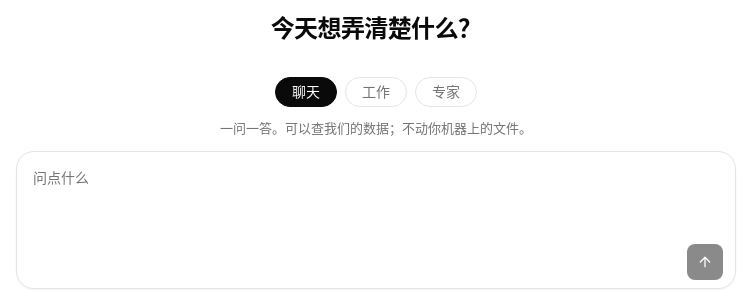
Test case: 电脑接入入口 › 明确进入聊天，不提示接入、不以缺电脑拦截（mode=chat）
Type "你好" into the text box at (376, 200), box left=25, top=160, right=727, bottom=240
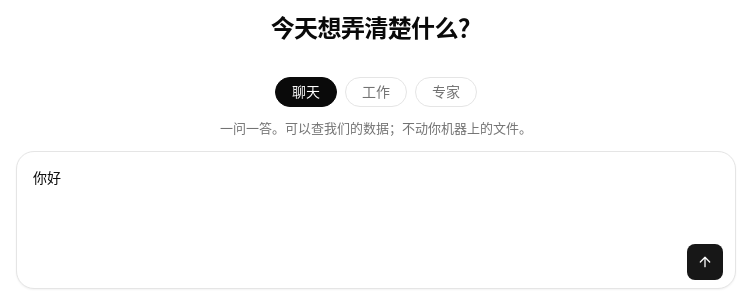
Check: the button named "发送" is enabled, box left=687, top=244, right=723, bottom=280
